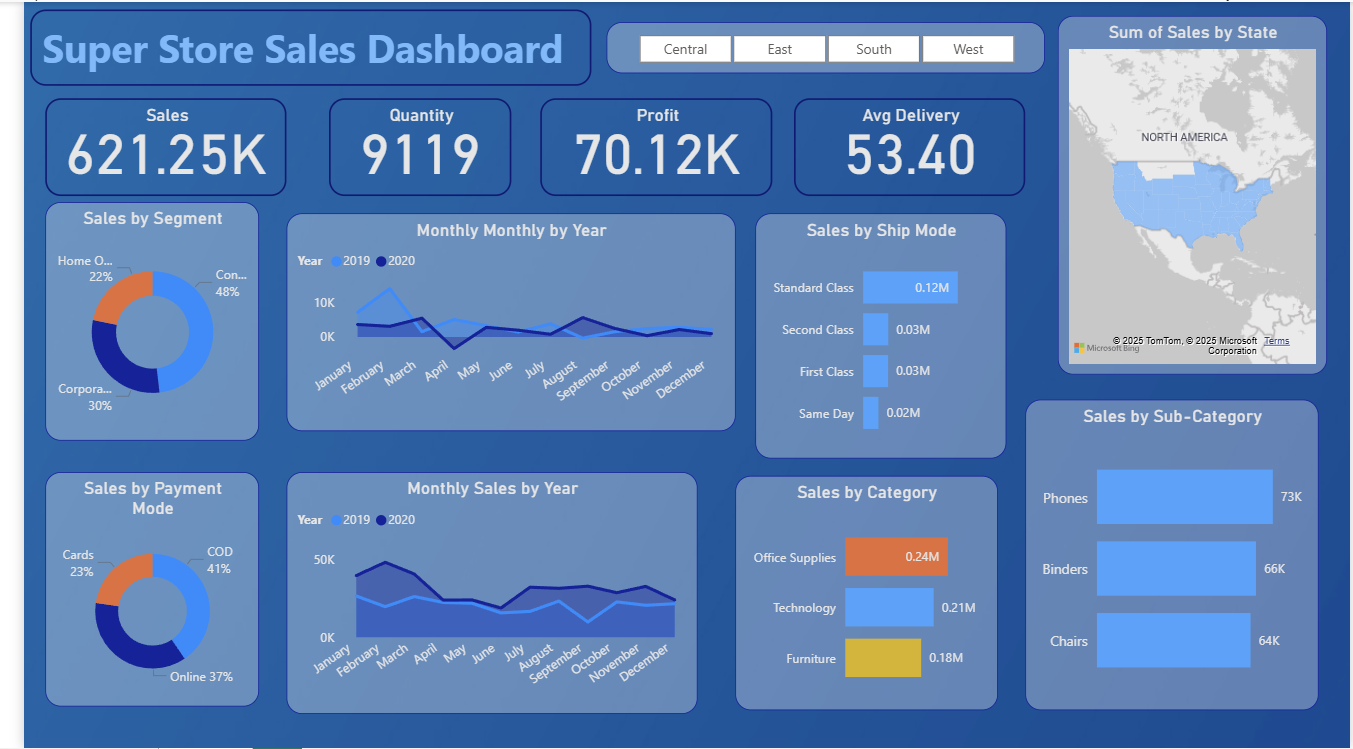

The page's visual inventory and layout, read from the dashboard file:
{"tool":"powerbi","page":{"name":"Page 1","canvas":[1280,720],"ordinal":0},"visuals":[{"type":"clusteredBarChart","title":"Sales by Category","fields":{"Category":["SuperStore_Sales_Dataset.Category"],"Y":["Sum(SuperStore_Sales_Dataset.Sales)"]},"box":[686.7,456.7,253.3,226.7],"z":0},{"type":"clusteredBarChart","title":"Sales by Sub-Category","fields":{"Y":["Sum(SuperStore_Sales_Dataset.Sales)"],"Category":["SuperStore_Sales_Dataset.Sub-Category"]},"box":[966.7,383.3,283.3,300],"z":1000},{"type":"clusteredBarChart","title":"Sales by Ship Mode","fields":{"Y":["Sum(SuperStore_Sales_Dataset.Sales)"],"Category":["SuperStore_Sales_Dataset.Ship Mode"]},"box":[705.8,203.9,242.5,236.5],"z":2000},{"type":"areaChart","title":"Monthly Sales by Year","fields":{"Y":["Sum(SuperStore_Sales_Dataset.Sales)"],"Series":["SuperStore_Sales_Dataset.Order Date.Variation.Date Hierarchy.Year"],"Category":["SuperStore_Sales_Dataset.Order Date.Variation.Date Hierarchy.Month"]},"box":[253.3,453.3,396.7,233.3],"z":3000},{"type":"areaChart","title":"Monthly Monthly by Year","fields":{"Series":["SuperStore_Sales_Dataset.Order Date.Variation.Date Hierarchy.Year"],"Category":["SuperStore_Sales_Dataset.Order Date.Variation.Date Hierarchy.Month"],"Y":["Sum(SuperStore_Sales_Dataset.Profit)"]},"box":[253.3,203.3,433.3,210],"z":4000},{"type":"filledMap","title":"Sum of Sales by State","fields":{"Category":["SuperStore_Sales_Dataset.State"]},"box":[998.2,13.6,260,346.4],"z":5000},{"type":"donutChart","title":"Sales by Segment","fields":{"Category":["SuperStore_Sales_Dataset.Segment"],"Y":["Sum(SuperStore_Sales_Dataset.Sales)"]},"box":[20,193.3,206.7,230],"z":6000},{"type":"donutChart","title":"Sales by Payment Mode","fields":{"Y":["Sum(SuperStore_Sales_Dataset.Sales)"],"Category":["SuperStore_Sales_Dataset.Payment Mode"]},"box":[20,453.3,206.7,226.7],"z":7000},{"type":"slicer","fields":{"Values":["SuperStore_Sales_Dataset.Region"]},"box":[562.2,19.3,423.5,49.5],"z":8000},{"type":"textbox","box":[6,7.2,541.7,73.6],"z":9000},{"type":"card","title":"Sales","fields":{"Values":["Sum(SuperStore_Sales_Dataset.Sales)"]},"box":[20.5,92.9,232.8,94.1],"z":10000},{"type":"card","title":"Quantity","fields":{"Values":["Sum(SuperStore_Sales_Dataset.Quantity)"]},"box":[294.4,92.9,176.1,94.1],"z":11000},{"type":"card","title":"Profit","fields":{"Values":["Sum(SuperStore_Sales_Dataset.Profit)"]},"box":[498.3,92.9,224.4,94.1],"z":12000},{"type":"card","title":"Avg Delivery","fields":{"Values":["Avg(SuperStore_Sales_Dataset.AvgDelivery)"]},"box":[743.2,92.9,223.2,94.1],"z":13000}]}

Visuals, with their boxes in screenshot pixels (x1, y1, x2, y2), scaled from the page's 1280x720 canvas onto the 1353x749 screenshot:
"Sales by Category" clusteredBarChart: crop(726, 475, 994, 711)
"Sales by Sub-Category" clusteredBarChart: crop(1022, 399, 1321, 711)
"Sales by Ship Mode" clusteredBarChart: crop(746, 212, 1002, 458)
"Monthly Sales by Year" areaChart: crop(268, 472, 687, 714)
"Monthly Monthly by Year" areaChart: crop(268, 211, 726, 430)
"Sum of Sales by State" filledMap: crop(1055, 14, 1330, 374)
"Sales by Segment" donutChart: crop(21, 201, 240, 440)
"Sales by Payment Mode" donutChart: crop(21, 472, 240, 707)
slicer - SuperStore_Sales_Dataset.Region: crop(594, 20, 1042, 72)
textbox: crop(6, 7, 579, 84)
"Sales" card: crop(22, 97, 268, 195)
"Quantity" card: crop(311, 97, 497, 195)
"Profit" card: crop(527, 97, 764, 195)
"Avg Delivery" card: crop(786, 97, 1022, 195)
